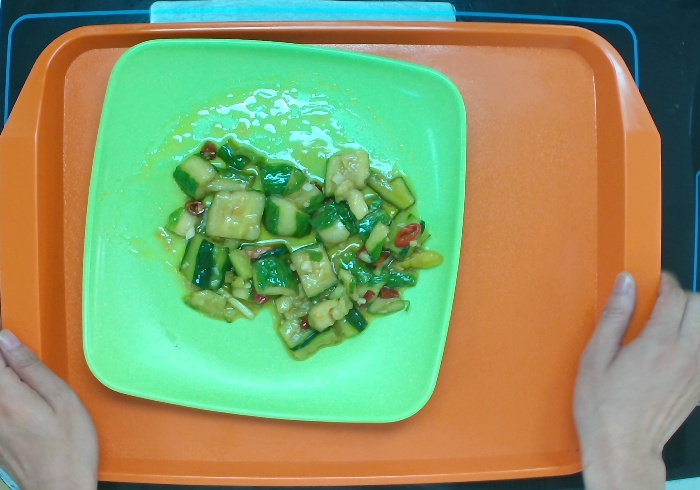ZNLD-Lv_Fang_Pan: (81, 22, 468, 422)
